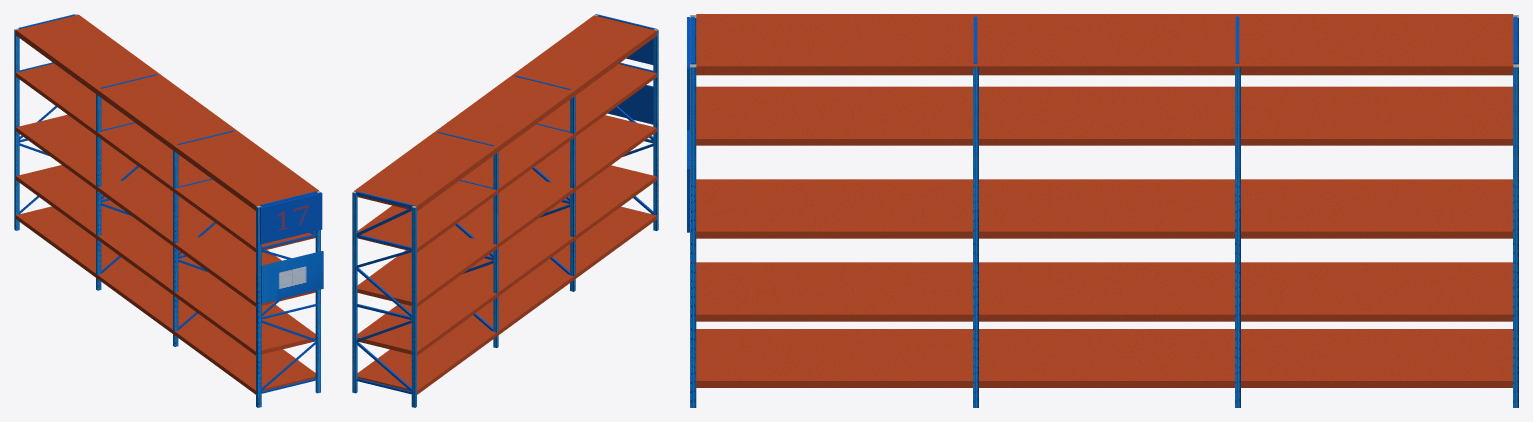
The model's file is Shelf17.FBX.
The picture shows the model from 3 angles, left to right: view 1: azimuth 30°, elevation 25°; view 2: azimuth 150°, elevation 25°; view 3: azimuth 270°, elevation 25°; orthographic projection. The views are drawn at different scales.
Visible parts, largest first — view 1: 对象31, Box3701, Box3700; view 2: 对象31, Box3701, Box3700; view 3: 对象31.
Part boxes in pixels (x1=…): 对象31: x1=14, y1=14, x2=320, y2=407; Box3701: x1=261, y1=251, x2=323, y2=303; Box3700: x1=260, y1=192, x2=322, y2=244; 对象31: x1=352, y1=14, x2=658, y2=407; Box3701: x1=607, y1=85, x2=653, y2=124; Box3700: x1=595, y1=14, x2=657, y2=64; 对象31: x1=690, y1=14, x2=1518, y2=407.
Bounding box in the file's own units: 0.835 × 5.45 × 2.47.
